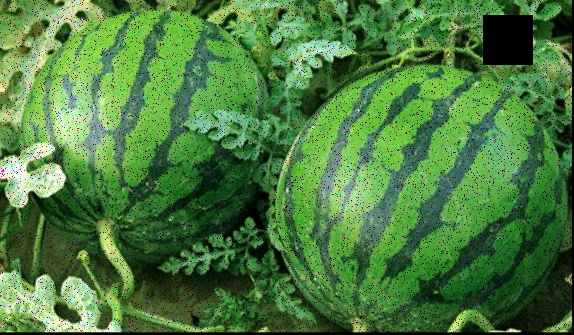watermelon: (284, 62, 570, 331), (19, 8, 267, 261)
